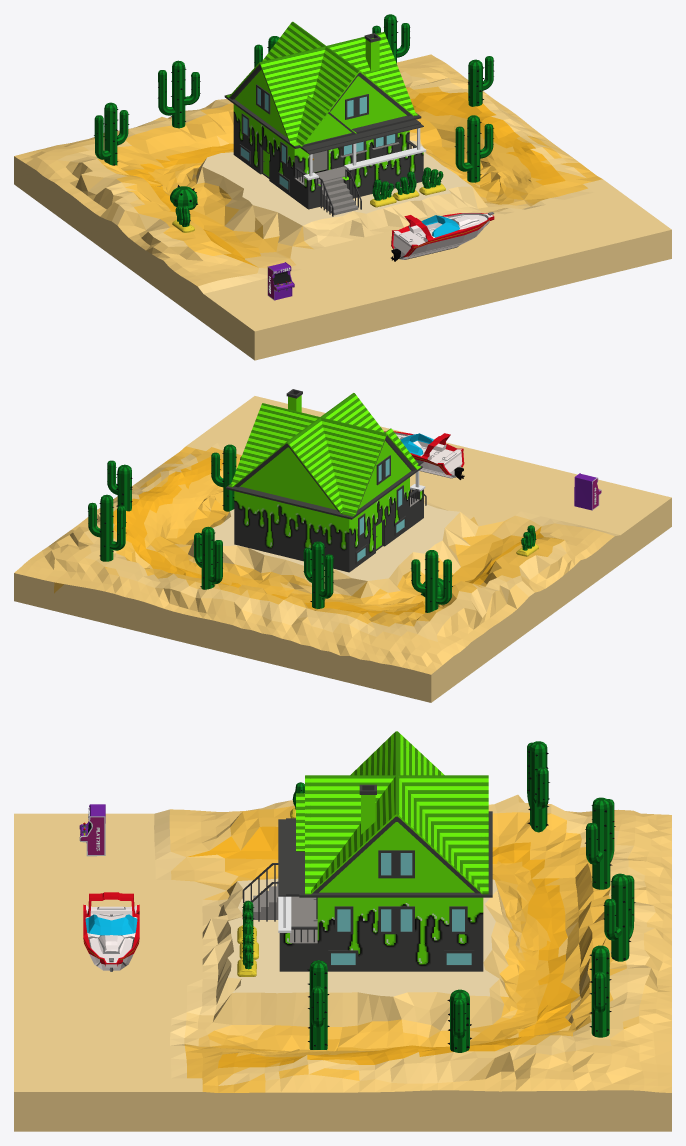
The picture shows the model from 3 angles, top to bottom: view 1: azimuth 30°, elevation 25°; view 2: azimuth 150°, elevation 25°; view 3: azimuth 270°, elevation 25°; orthographic projection. The views are drawn at different scales.
Parts seen in each view (by area): view 1: Cube.001, Cube.754, VEHICLES_BOAT, Cylinder.037, Cylinder.044, Cylinder.045, Cylinder.038, OBJRANDOM_ARCADE, Cylinder.042, Cylinder.039, Cylinder.041, Sphere.023 (+1 smaller); view 2: Cube.001, Cube.754, VEHICLES_BOAT, Cylinder.042, Cylinder.045, Cylinder.044, Cylinder.043, Cylinder.037, Cylinder.038, OBJRANDOM_ARCADE; view 3: Cube.001, Cube.754, VEHICLES_BOAT, Cylinder.043, Cylinder.044, Cylinder.045, Cylinder.042, Cylinder.037, Cylinder.038, OBJRANDOM_ARCADE, Cylinder.041.
Boxes of the visible parts, x1,y1,x2,y2 form: Cube.001: [14, 54, 671, 360]; Cube.754: [224, 21, 426, 216]; VEHICLES_BOAT: [391, 212, 494, 261]; Cylinder.037: [454, 115, 493, 182]; Cylinder.044: [158, 60, 200, 128]; Cylinder.045: [94, 102, 129, 165]; Cylinder.038: [468, 56, 494, 106]; OBJRANDOM_ARCADE: [267, 262, 294, 300]; Cylinder.042: [372, 14, 410, 63]; Cylinder.039: [370, 179, 396, 207]; Cylinder.041: [419, 167, 445, 195]; Sphere.023: [170, 185, 197, 209]; Cube.001: [14, 396, 671, 702]; Cube.754: [226, 389, 426, 572]; VEHICLES_BOAT: [384, 431, 464, 479]; Cylinder.042: [88, 494, 126, 561]; Cylinder.045: [411, 550, 452, 612]; Cylinder.044: [303, 541, 333, 608]; Cylinder.043: [194, 526, 222, 589]; Cylinder.037: [211, 444, 241, 511]; Cylinder.038: [107, 460, 132, 511]; OBJRANDOM_ARCADE: [574, 473, 601, 510]; Cube.001: [14, 794, 671, 1131]; Cube.754: [242, 731, 492, 971]; VEHICLES_BOAT: [83, 892, 139, 971]; Cylinder.043: [603, 873, 635, 961]; Cylinder.044: [585, 797, 615, 889]; Cylinder.045: [527, 741, 549, 832]; Cylinder.042: [589, 945, 611, 1037]; Cylinder.037: [307, 960, 329, 1049]; Cylinder.038: [447, 989, 471, 1052]; OBJRANDOM_ARCADE: [79, 804, 105, 856]; Cylinder.041: [237, 933, 256, 976].
Size of the model in its own units: 4002 by 1634 by 4001.
Materials: 29 (3 with a texture image).
